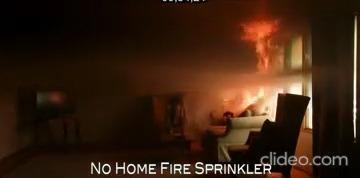fire: (237, 18, 280, 74), (238, 87, 266, 109)
